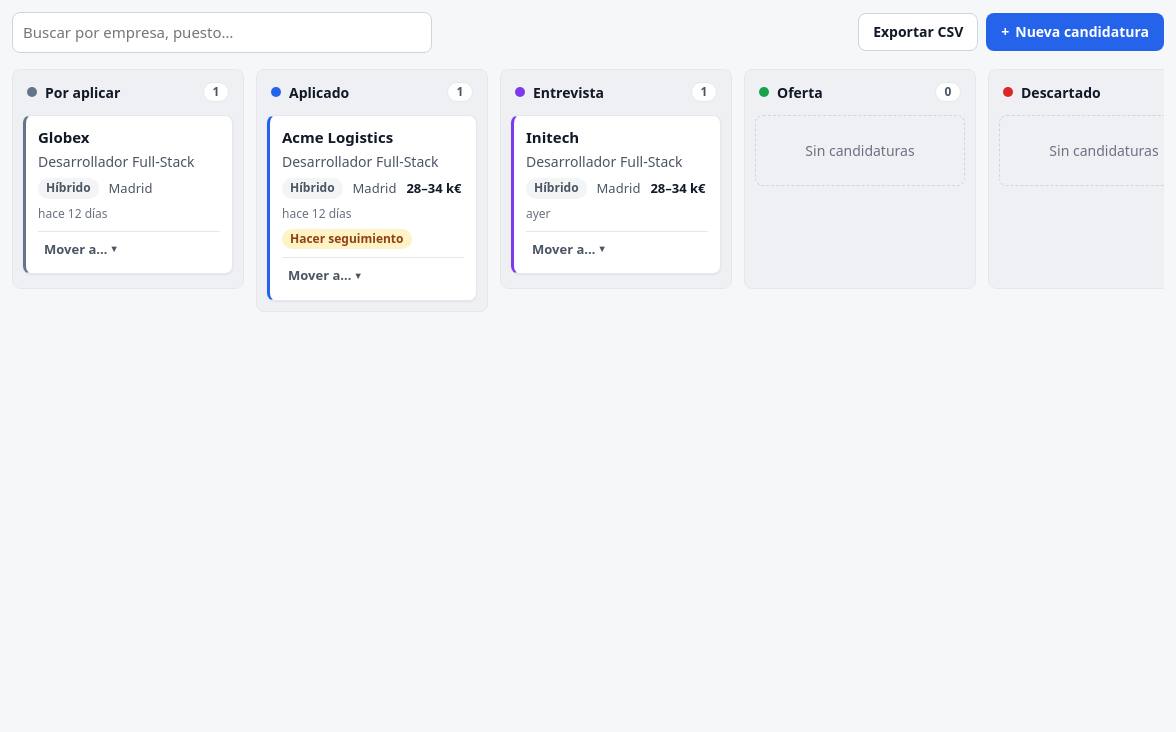
Test case: BoardView › puts the card back and shows the API detail when the move is rejected
What coordinates should you click on to do the following:
click the heading "Mover a…" below "Hacer seguimiento"
I would click on:
 (324, 276)
Its box is [282,264,366,288].
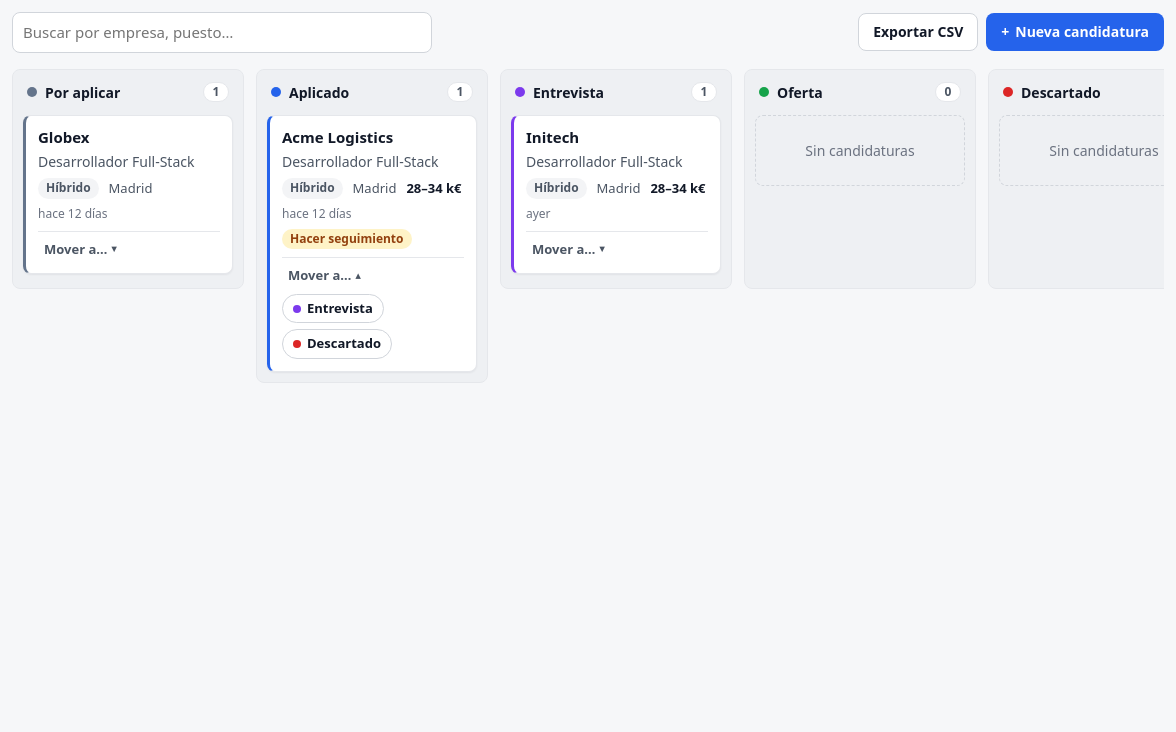
What coordinates should you click on to do the following:
click the button "Entrevista"
I would click on:
 (333, 309)
Its box is [282,294,384,324].
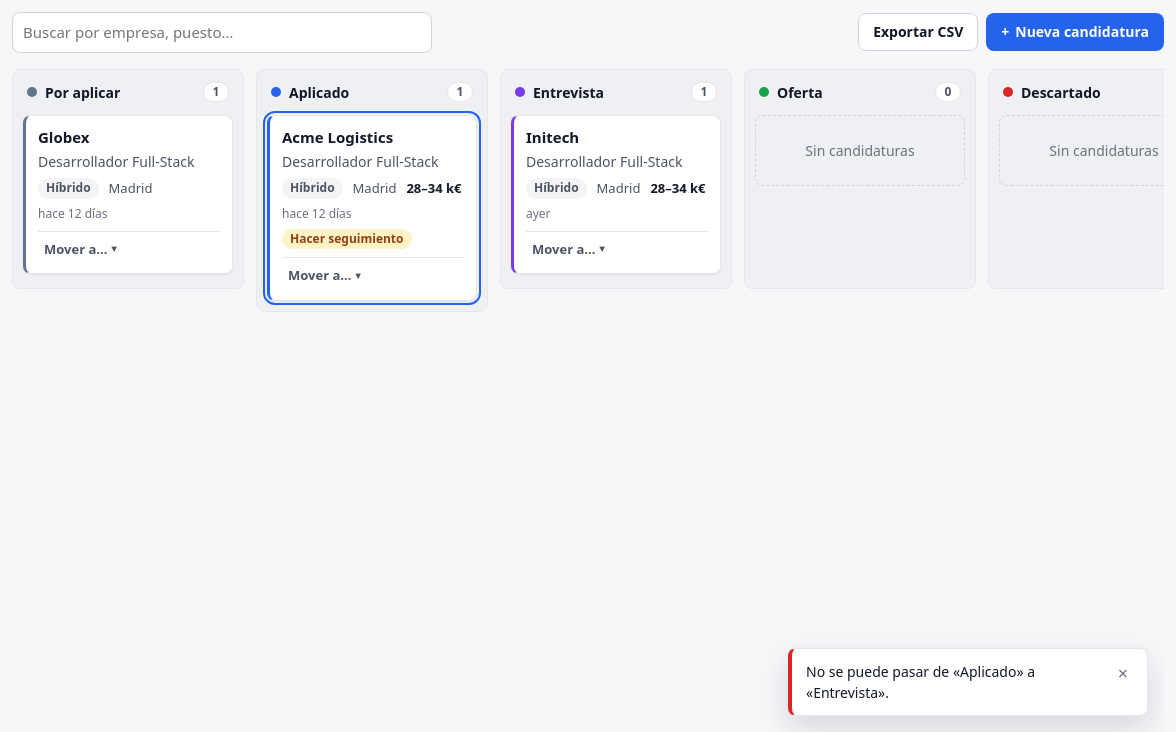
Expected: the button "Acme Logistics" is shown, [282,128,393,147]
Expected: the text "No se puede pasar de «Aplicado» a «Entrevista»." is shown, [806,662,1035,702]
